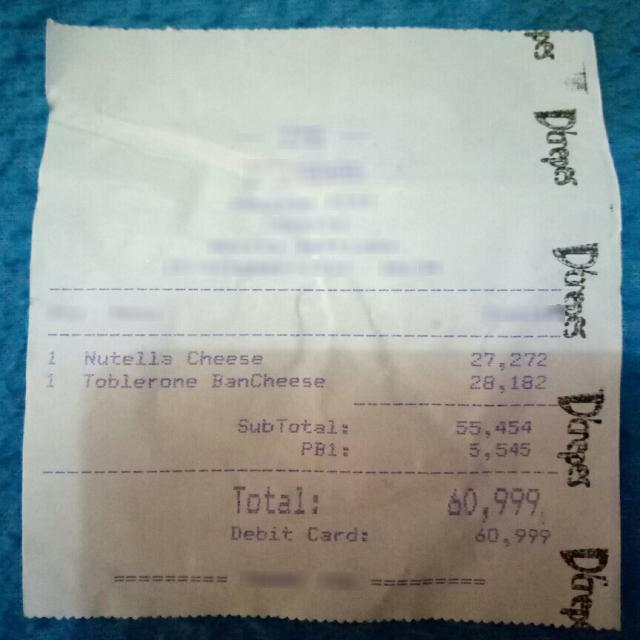kertas: (22, 21, 631, 629)
